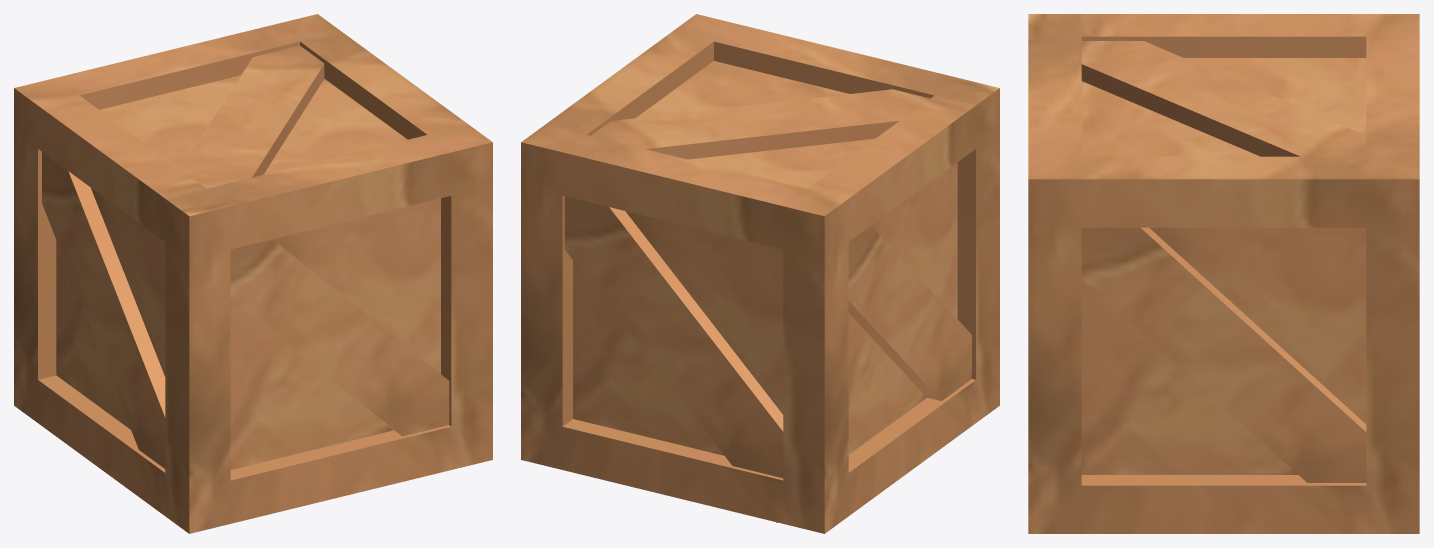
The model's file is Crate.fbx.
3 views of the same model, side by side, from view 1: azimuth 30°, elevation 25°; view 2: azimuth 150°, elevation 25°; view 3: azimuth 270°, elevation 25° (orthographic). The views are drawn at different scales.
Parts seen in each view (by area): view 1: Crate; view 2: Crate; view 3: Crate.
Part boxes in pixels (bbox=[...]): Crate: bbox=[14, 14, 492, 533]; Crate: bbox=[521, 14, 999, 533]; Crate: bbox=[1028, 14, 1419, 533].
Bounding box in the file's own units: 1 × 1.01 × 1.
